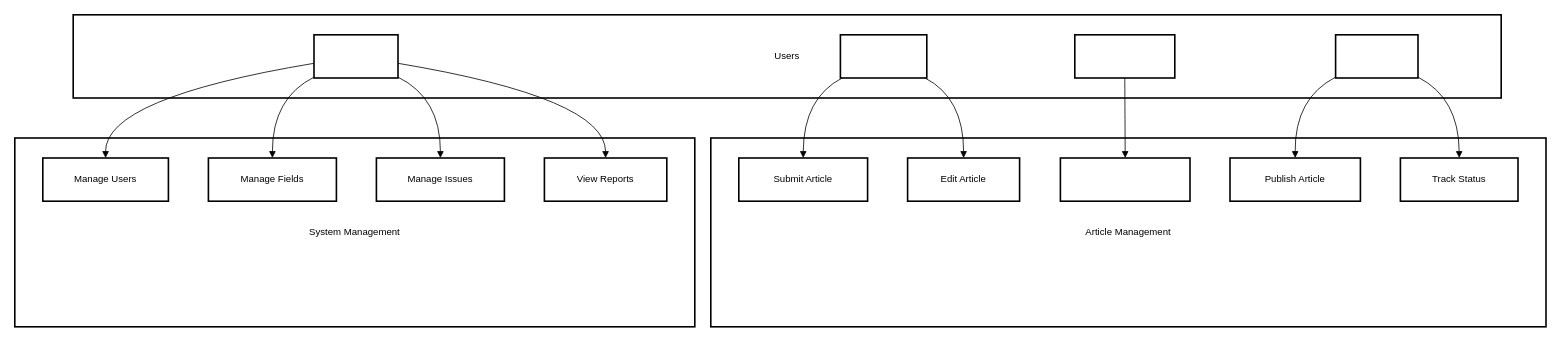
Some shapes in this 1560 by 341 pixel diagram are drawn without their labels. The centre of each missing label's shape, as x and y in pixels:
"Admin" goes at point 355,56.
"Author" goes at point 883,56.
"Editor" goes at point 1376,56.
"Review Article" goes at point 1124,179.
"Reviewer" goes at point 1124,56.
